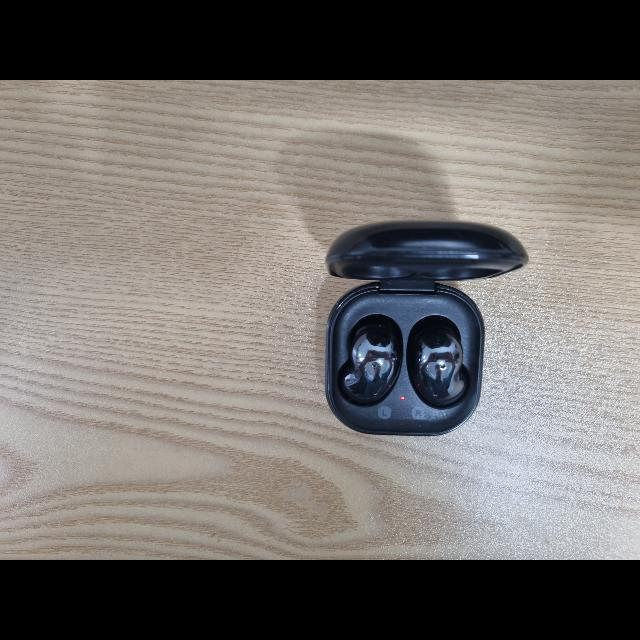buds_live: (324, 219, 528, 441)
